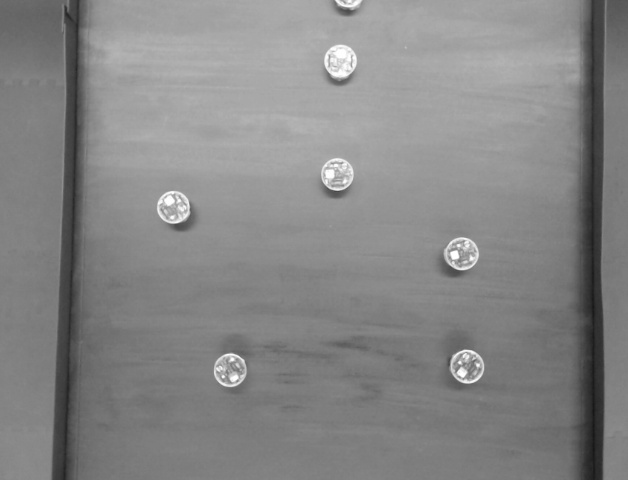epuck_2: (431, 226, 486, 282), (150, 183, 200, 233), (314, 39, 365, 83), (318, 151, 362, 196), (447, 343, 488, 387), (212, 348, 251, 389), (328, 1, 370, 17)
